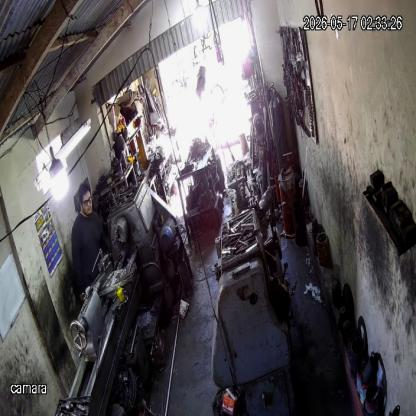lentes: (81, 194, 93, 207)
